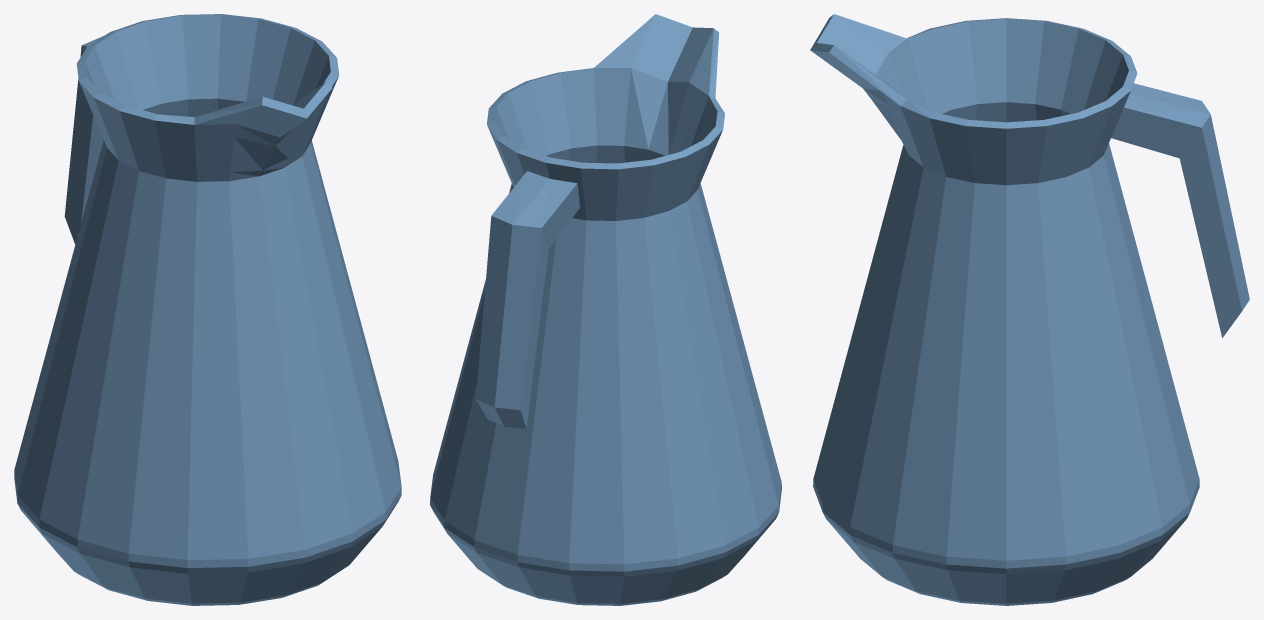
Rendered from 505 Jug.obj.
3 renders of one model, left to right at view 1: azimuth 30°, elevation 25°; view 2: azimuth 150°, elevation 25°; view 3: azimuth 270°, elevation 25°, orthographic. The views are drawn at different scales.
Visible parts, largest first — view 1: Jug; view 2: Jug; view 3: Jug.
Boxes of the visible parts, left/top/right/bottom form: Jug: left=14, top=14, right=401, bottom=605; Jug: left=430, top=14, right=781, bottom=605; Jug: left=810, top=14, right=1249, bottom=605.
Bounding box in the file's own units: 28.46 × 41.91 × 32.37.
